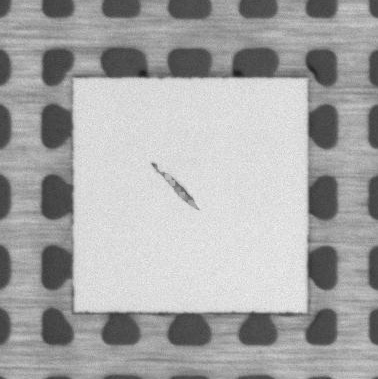DIE_INK: (150, 161, 204, 215)
